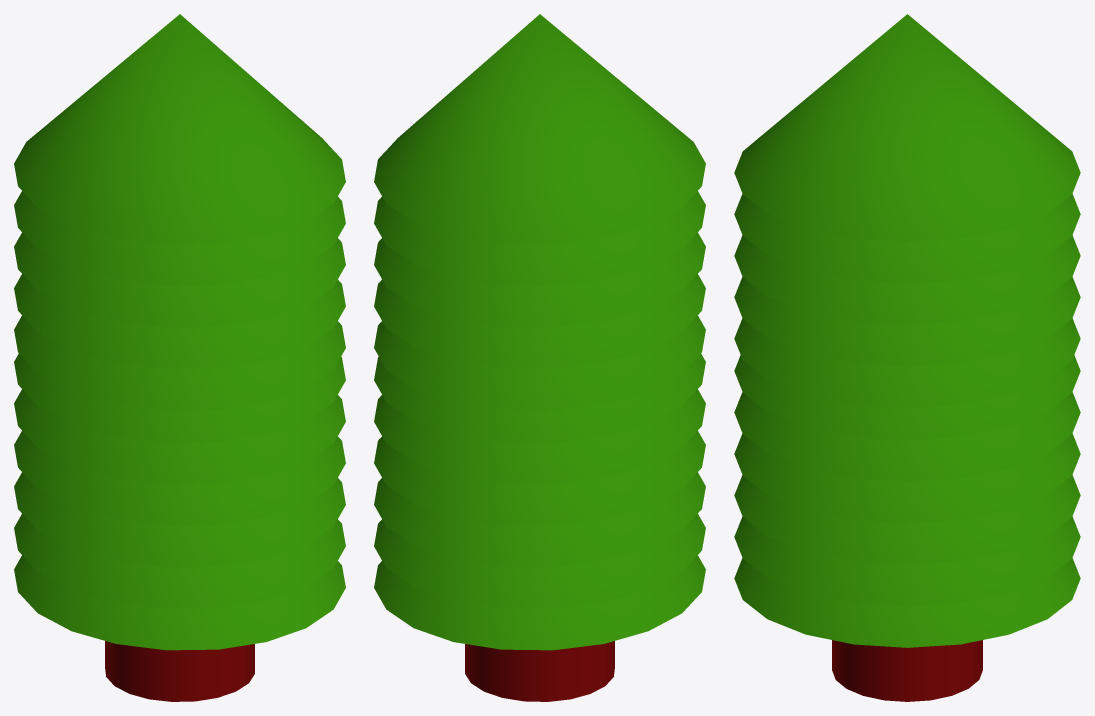
The model's file is tree.fbx.
3 renders of one model, left to right at view 1: azimuth 30°, elevation 25°; view 2: azimuth 150°, elevation 25°; view 3: azimuth 270°, elevation 25°, orthographic.
Parts seen in each view (by area): view 1: pCone12, pCone10, pCone3, pCone5, pCone4, pCone8, pCone2, pCone1, pCone9, pCone11, pCone7, pCylinder1; view 2: pCone12, pCone10, pCone3, pCone5, pCone4, pCone8, pCone2, pCone1, pCone9, pCone11, pCone7, pCylinder1; view 3: pCone12, pCone2, pCone4, pCone10, pCone3, pCone5, pCone8, pCone9, pCone11, pCone1, pCone7, pCylinder1.
Boxes of the visible parts, x1,y1,x2,y2 form: pCone12: (14, 14, 345, 244); pCone10: (14, 232, 345, 327); pCone3: (14, 472, 345, 567); pCone5: (14, 389, 345, 484); pCone4: (14, 431, 345, 525); pCone8: (14, 315, 345, 410); pCone2: (14, 514, 345, 608); pCone1: (14, 555, 345, 650); pCone9: (14, 274, 345, 368); pCone11: (14, 191, 345, 285); pCone7: (14, 353, 345, 442); pCylinder1: (105, 641, 254, 701); pCone12: (374, 14, 705, 244); pCone10: (374, 232, 705, 327); pCone3: (374, 472, 705, 567); pCone5: (374, 389, 705, 484); pCone4: (374, 431, 705, 525); pCone8: (374, 315, 705, 410); pCone2: (374, 514, 705, 608); pCone1: (374, 555, 705, 650); pCone9: (374, 274, 705, 368); pCone11: (374, 191, 705, 285); pCone7: (374, 353, 705, 442); pCylinder1: (465, 641, 614, 701); pCone12: (734, 14, 1080, 241); pCone2: (734, 516, 1080, 606); pCone4: (734, 433, 1080, 523); pCone10: (734, 235, 1080, 324); pCone3: (734, 475, 1080, 564); pCone5: (734, 392, 1080, 481); pCone8: (734, 318, 1080, 407); pCone9: (734, 277, 1080, 366); pCone11: (734, 194, 1080, 283); pCone1: (734, 558, 1080, 647); pCone7: (734, 355, 1080, 440); pCylinder1: (832, 640, 982, 701).
Bounding box in the file's own units: 7.17 × 15.81 × 7.57.
